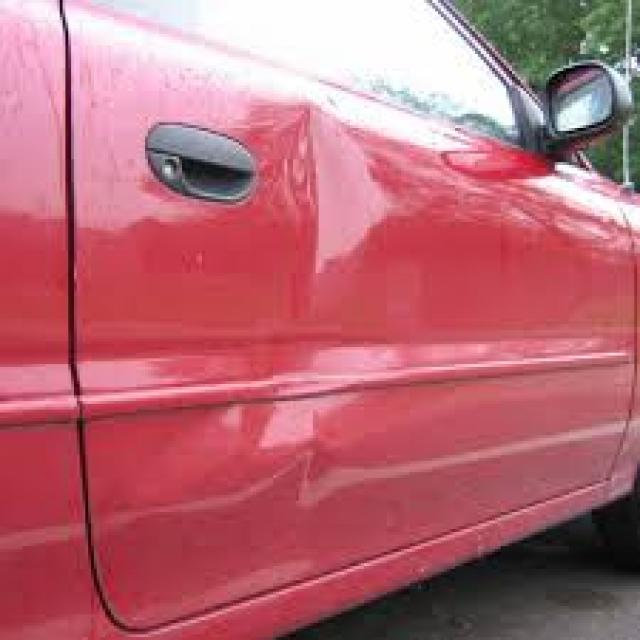minor: (184, 62, 446, 534)
